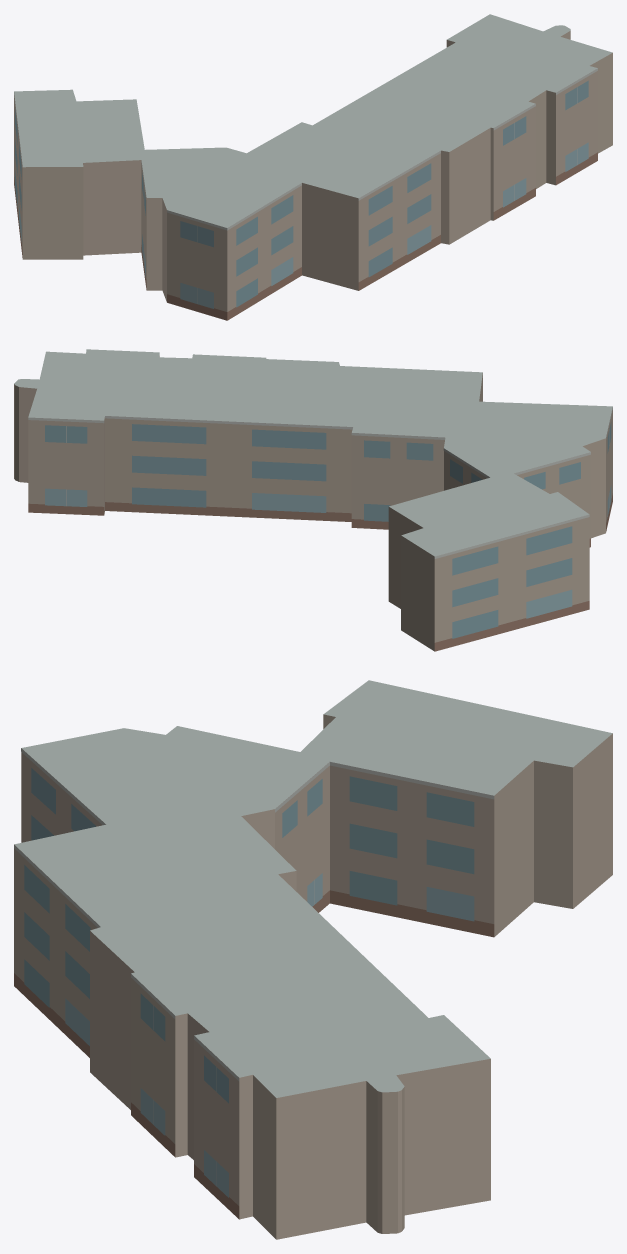
File: survey-upis-33010595.glb
The picture shows the model from 3 angles, top to bottom: view 1: azimuth 30°, elevation 25°; view 2: azimuth 150°, elevation 25°; view 3: azimuth 270°, elevation 25°; orthographic projection. The views are drawn at different scales.
Visible parts, largest first — view 1: survey-upis-33010595.tmp; view 2: survey-upis-33010595.tmp; view 3: survey-upis-33010595.tmp.
Boxes of the visible parts, x1,y1,x2,y2 form: survey-upis-33010595.tmp: (14, 14, 612, 320); survey-upis-33010595.tmp: (14, 349, 612, 651); survey-upis-33010595.tmp: (14, 680, 612, 1239).
Size of the model in its own units: 57.89 by 9.15 by 35.06.
